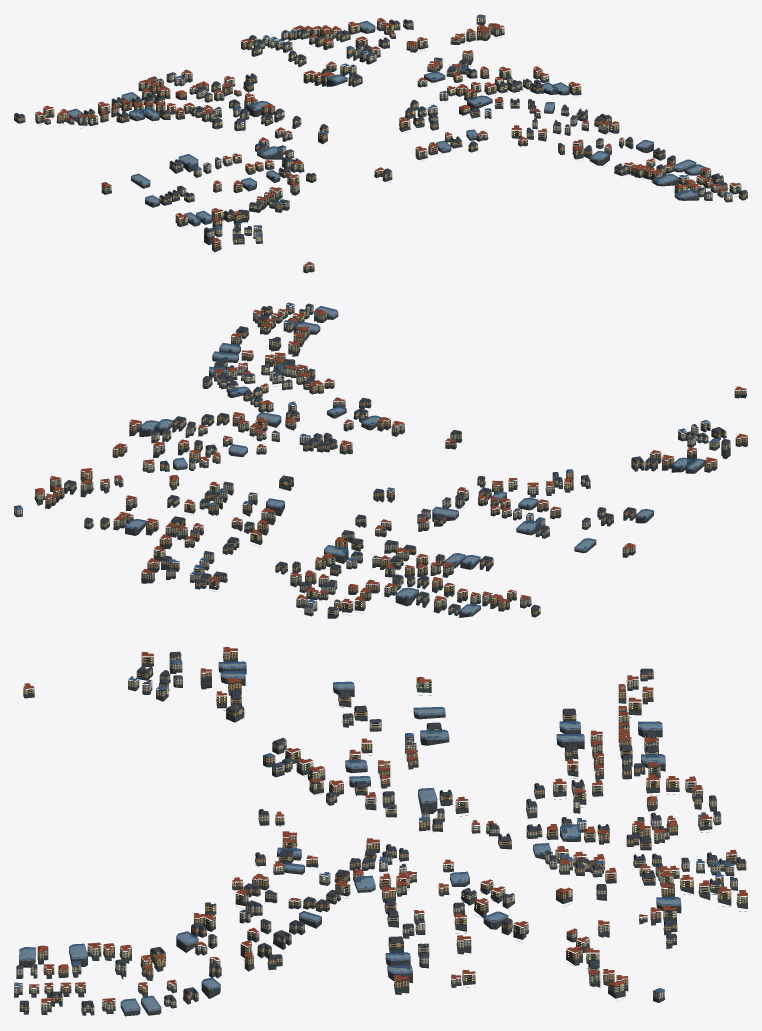
The model's file is osm_buildings_T_W01_N02_Q2.glb.
3 views of the same model, one above another, from view 1: azimuth 30°, elevation 25°; view 2: azimuth 150°, elevation 25°; view 3: azimuth 270°, elevation 25° (orthographic). The views are drawn at different scales.
Parts seen in each view (by area): view 1: OSM_T_W01_N02_Q2_foundation, OSM_T_W01_N02_Q2_wall_french_ochre, OSM_T_W01_N02_Q2_wall_cream_stucco, OSM_T_W01_N02_Q2_roof_terracotta, OSM_T_W01_N02_Q2_greenhouse_blend, OSM_T_W01_N02_Q2_roof_mansard_slate, OSM_T_W01_N02_Q2_roof_mansard_deck, OSM_T_W01_N02_Q2_roof_mint_metal, OSM_T_W01_N02_Q2_balcony_railing, OSM_T_W01_N02_Q2_wall_pastel_sand, OSM_T_W01_N02_Q2_wall_warm_white, OSM_T_W01_N02_Q2_window_emissive_warm (+1 smaller); view 2: OSM_T_W01_N02_Q2_foundation, OSM_T_W01_N02_Q2_wall_french_ochre, OSM_T_W01_N02_Q2_wall_cream_stucco, OSM_T_W01_N02_Q2_roof_terracotta, OSM_T_W01_N02_Q2_greenhouse_blend, OSM_T_W01_N02_Q2_roof_mansard_slate, OSM_T_W01_N02_Q2_roof_mansard_deck, OSM_T_W01_N02_Q2_roof_mint_metal, OSM_T_W01_N02_Q2_trim_cornice, OSM_T_W01_N02_Q2_wall_pastel_sand, OSM_T_W01_N02_Q2_wall_warm_white, OSM_T_W01_N02_Q2_window_emissive_warm (+2 smaller); view 3: OSM_T_W01_N02_Q2_foundation, OSM_T_W01_N02_Q2_wall_french_ochre, OSM_T_W01_N02_Q2_wall_cream_stucco, OSM_T_W01_N02_Q2_roof_terracotta, OSM_T_W01_N02_Q2_greenhouse_blend, OSM_T_W01_N02_Q2_roof_mansard_slate, OSM_T_W01_N02_Q2_roof_mansard_deck, OSM_T_W01_N02_Q2_roof_mint_metal, OSM_T_W01_N02_Q2_trim_cornice, OSM_T_W01_N02_Q2_wall_warm_white, OSM_T_W01_N02_Q2_wall_pastel_sand, OSM_T_W01_N02_Q2_balcony_railing (+2 smaller).
Boxes of the visible parts, <box> form: OSM_T_W01_N02_Q2_foundation: <box>14,21,747,273</box>; OSM_T_W01_N02_Q2_wall_french_ochre: <box>14,21,747,270</box>; OSM_T_W01_N02_Q2_wall_cream_stucco: <box>35,20,741,241</box>; OSM_T_W01_N02_Q2_roof_terracotta: <box>35,18,740,265</box>; OSM_T_W01_N02_Q2_greenhouse_blend: <box>67,21,706,223</box>; OSM_T_W01_N02_Q2_roof_mansard_slate: <box>14,20,747,239</box>; OSM_T_W01_N02_Q2_roof_mansard_deck: <box>15,19,746,237</box>; OSM_T_W01_N02_Q2_roof_mint_metal: <box>17,24,747,270</box>; OSM_T_W01_N02_Q2_balcony_railing: <box>15,22,740,241</box>; OSM_T_W01_N02_Q2_wall_pastel_sand: <box>174,16,732,236</box>; OSM_T_W01_N02_Q2_wall_warm_white: <box>44,41,712,207</box>; OSM_T_W01_N02_Q2_window_emissive_warm: <box>15,18,739,242</box>; OSM_T_W01_N02_Q2_foundation: <box>14,310,747,618</box>; OSM_T_W01_N02_Q2_wall_french_ochre: <box>45,308,747,615</box>; OSM_T_W01_N02_Q2_wall_cream_stucco: <box>35,310,730,615</box>; OSM_T_W01_N02_Q2_roof_terracotta: <box>35,308,747,603</box>; OSM_T_W01_N02_Q2_greenhouse_blend: <box>125,306,704,614</box>; OSM_T_W01_N02_Q2_roof_mansard_slate: <box>64,303,730,611</box>; OSM_T_W01_N02_Q2_roof_mansard_deck: <box>65,305,728,614</box>; OSM_T_W01_N02_Q2_roof_mint_metal: <box>37,311,747,615</box>; OSM_T_W01_N02_Q2_trim_cornice: <box>19,304,744,615</box>; OSM_T_W01_N02_Q2_wall_pastel_sand: <box>14,304,698,609</box>; OSM_T_W01_N02_Q2_wall_warm_white: <box>185,305,559,613</box>; OSM_T_W01_N02_Q2_window_emissive_warm: <box>37,309,729,613</box>; OSM_T_W01_N02_Q2_foundation: <box>14,657,747,1016</box>; OSM_T_W01_N02_Q2_wall_french_ochre: <box>19,650,746,1011</box>; OSM_T_W01_N02_Q2_wall_cream_stucco: <box>29,654,747,1012</box>; OSM_T_W01_N02_Q2_roof_terracotta: <box>23,647,747,1004</box>; OSM_T_W01_N02_Q2_greenhouse_blend: <box>19,661,681,1011</box>; OSM_T_W01_N02_Q2_roof_mansard_slate: <box>16,652,746,1007</box>; OSM_T_W01_N02_Q2_roof_mansard_deck: <box>21,651,744,1010</box>; OSM_T_W01_N02_Q2_roof_mint_metal: <box>20,659,746,1013</box>; OSM_T_W01_N02_Q2_trim_cornice: <box>14,653,746,1009</box>; OSM_T_W01_N02_Q2_wall_warm_white: <box>16,687,721,975</box>; OSM_T_W01_N02_Q2_wall_pastel_sand: <box>14,676,737,999</box>; OSM_T_W01_N02_Q2_balcony_railing: <box>26,651,746,1013</box>.
Bounding box in the file's own units: 994 × 96.67 × 989.
Materials: 16 (16 with a texture image).
